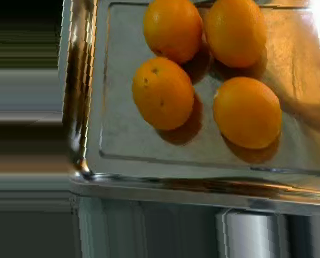Orange: (213, 75, 282, 149), (132, 55, 194, 131), (203, 1, 268, 68), (143, 1, 203, 62)
